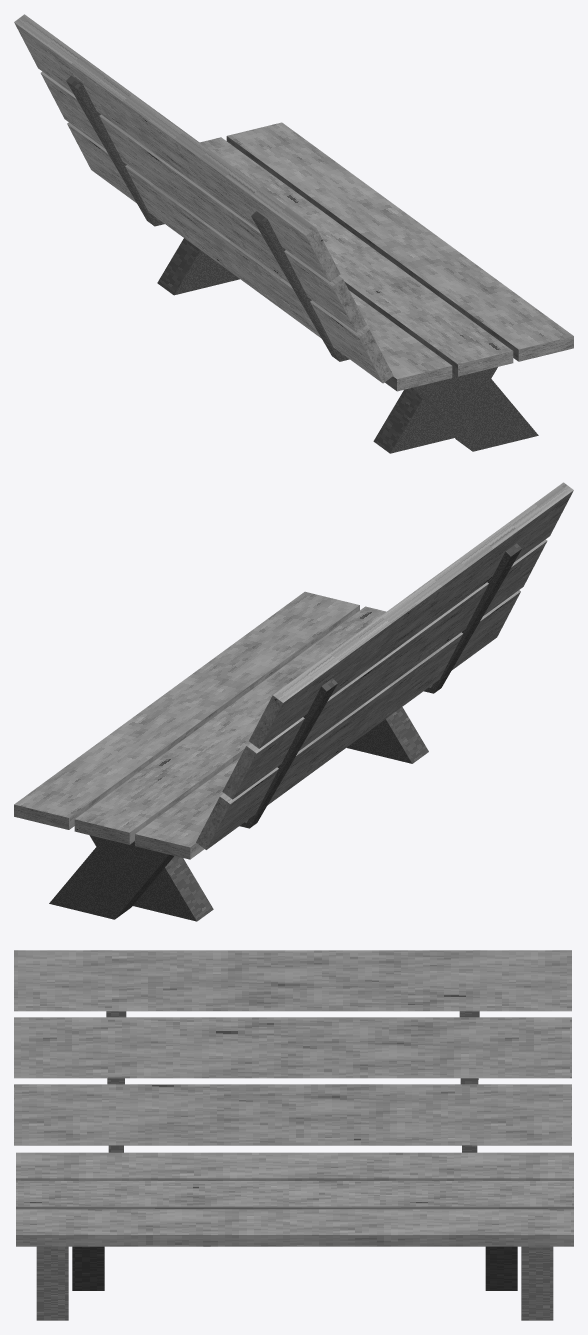
The model's file is Skameika.fbx.
3 views of the same model, one above another, from view 1: azimuth 30°, elevation 25°; view 2: azimuth 150°, elevation 25°; view 3: azimuth 270°, elevation 25° (orthographic). The views are drawn at different scales.
Parts seen in each view (by area): view 1: Cube.013; view 2: Cube.013; view 3: Cube.013.
Part boxes in pixels (x1,y1,x2,y2): Cube.013: (14,14,573,453); Cube.013: (14,482,573,921); Cube.013: (14,950,573,1320).
Size of the model in its own units: 84.98 by 82.55 by 160.
